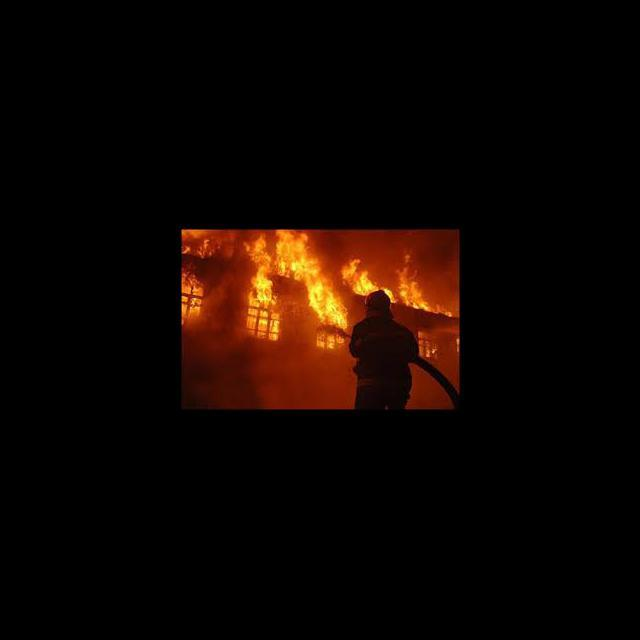Fire: (180, 230, 348, 348), (342, 250, 454, 316)
Smoke: (180, 356, 350, 411), (410, 359, 456, 409)
